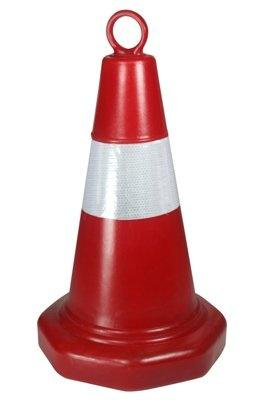cone_barrel: (51, 4, 209, 376)
